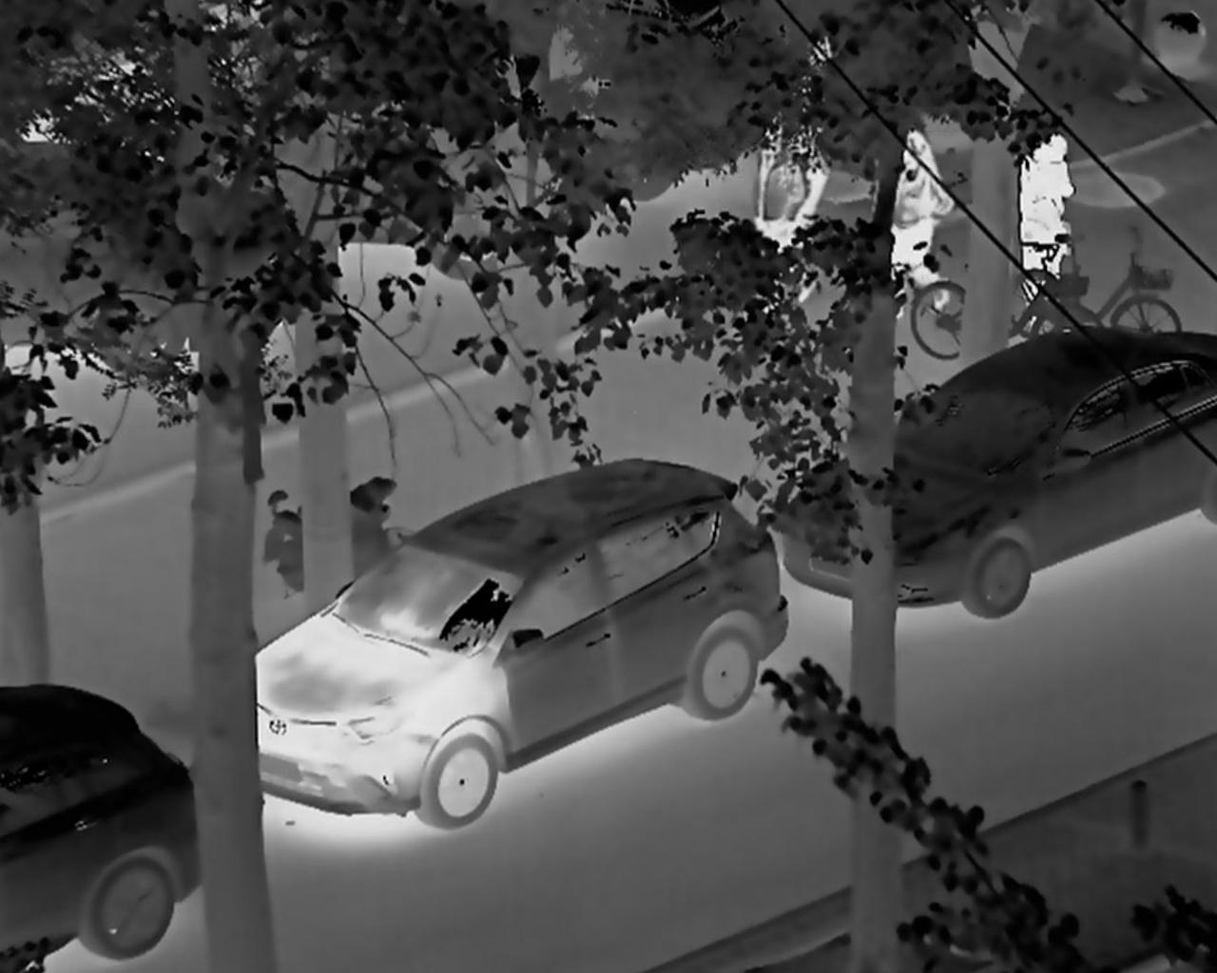person: (738, 90, 833, 313), (889, 120, 959, 315), (1015, 124, 1087, 313)
